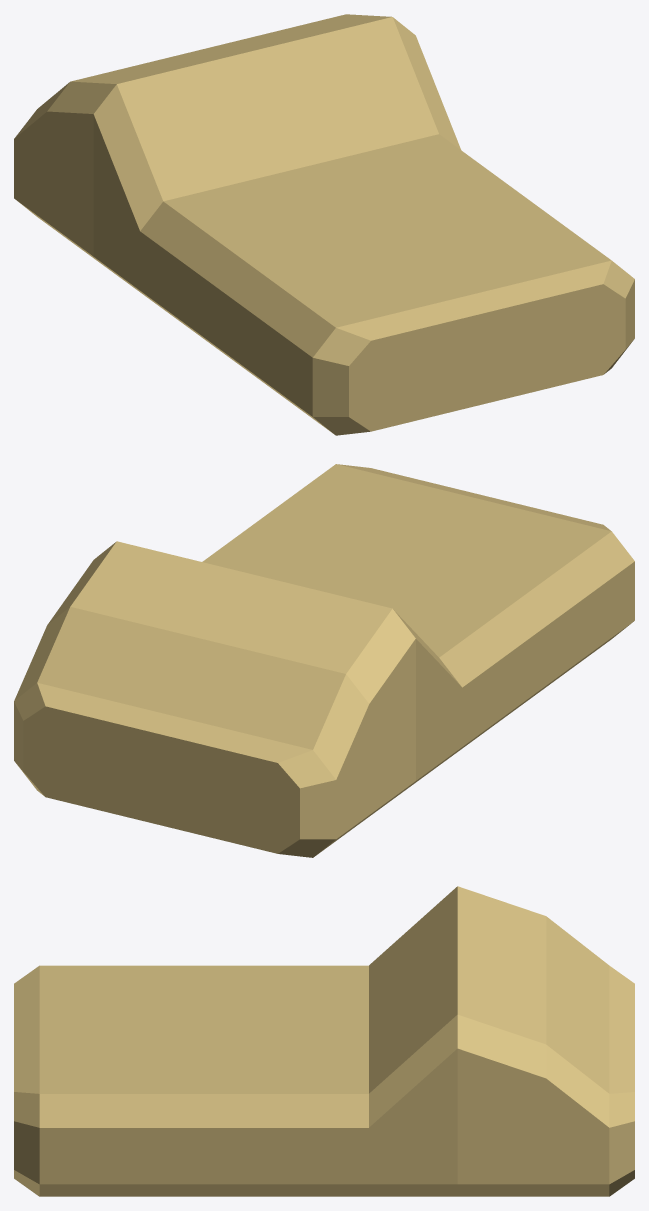
Rendered from tallow_light_a.glb.
The picture shows the model from 3 angles, top to bottom: view 1: azimuth 30°, elevation 25°; view 2: azimuth 150°, elevation 25°; view 3: azimuth 270°, elevation 25°; orthographic projection. The views are drawn at different scales.
Parts seen in each view (by area): view 1: tallow_light_a; view 2: tallow_light_a; view 3: tallow_light_a.
Boxes of the visible parts, x1=… form: tallow_light_a: x1=14, y1=14, x2=634, y2=435; tallow_light_a: x1=14, y1=464, x2=634, y2=857; tallow_light_a: x1=14, y1=886, x2=634, y2=1196.
Size of the model in its own units: 2.8 by 1.59 by 4.9.
